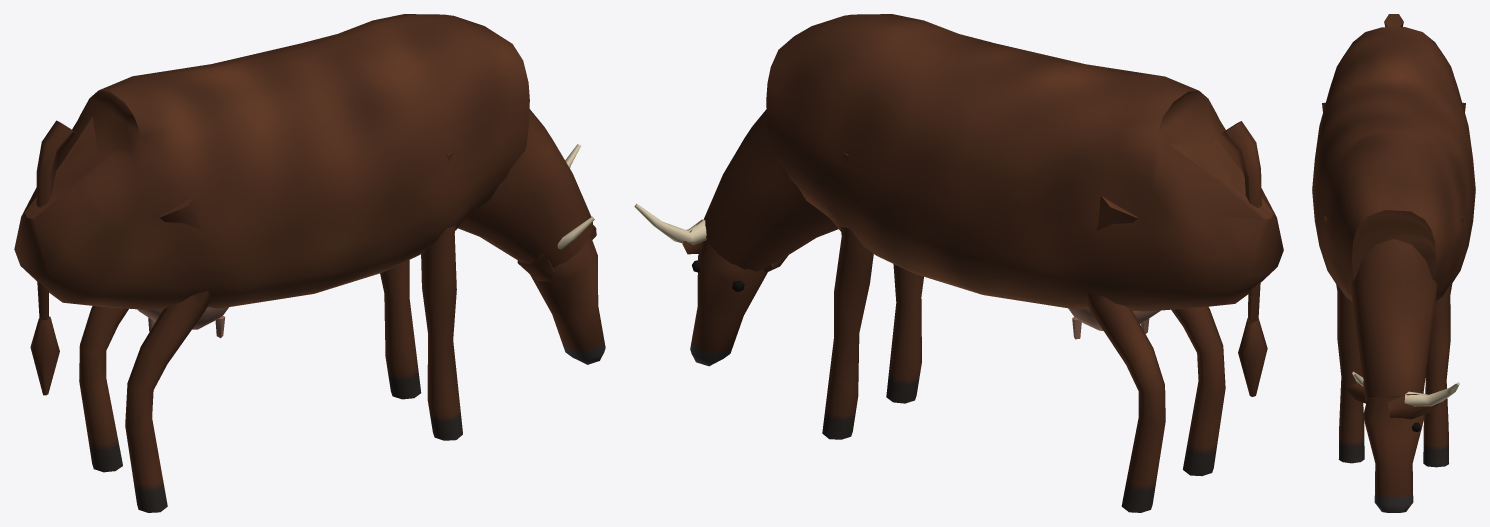
File: tpl_life_herd_1175_cattle_brown_graze_h.glb
3 views of the same model, side by side, from view 1: azimuth 30°, elevation 25°; view 2: azimuth 150°, elevation 25°; view 3: azimuth 270°, elevation 25° (orthographic). The views are drawn at different scales.
Parts seen in each view (by area): view 1: tpl_life_herd_1175_cattle_brown_graze_h; view 2: tpl_life_herd_1175_cattle_brown_graze_h; view 3: tpl_life_herd_1175_cattle_brown_graze_h.
Part boxes in pixels (bbox=[...]): tpl_life_herd_1175_cattle_brown_graze_h: bbox=[14, 14, 605, 512]; tpl_life_herd_1175_cattle_brown_graze_h: bbox=[634, 14, 1283, 512]; tpl_life_herd_1175_cattle_brown_graze_h: bbox=[1312, 14, 1475, 512].
Bounding box in the file's own units: 2.21 × 1.41 × 0.6588.
Materials: 3 (1 with a texture image).
